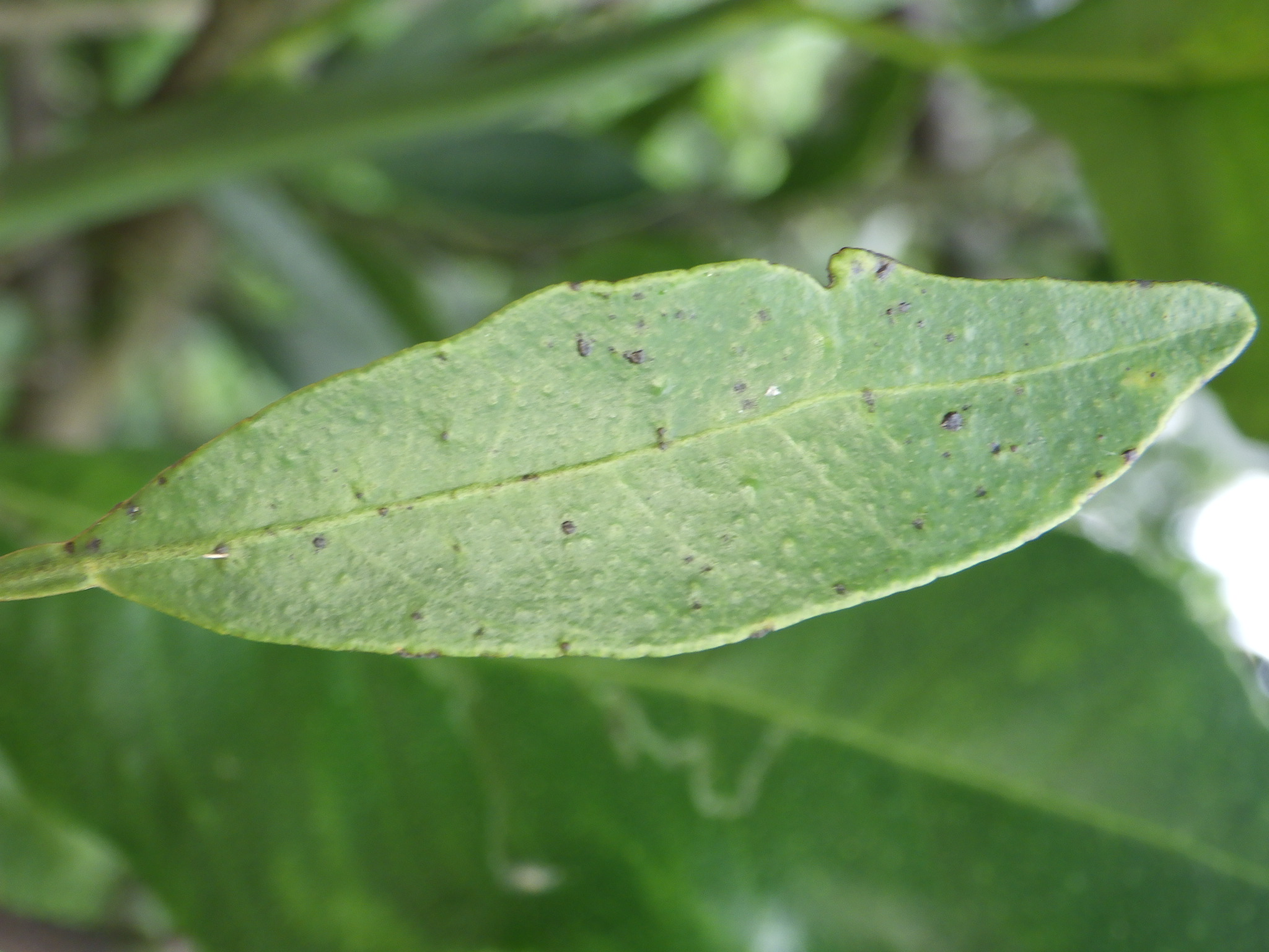Black_Spot: (0, 249, 1254, 657)
